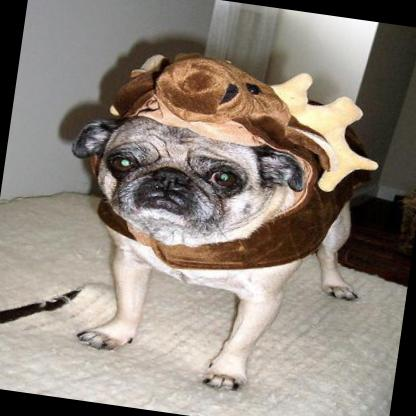pug: (37, 34, 390, 406)
